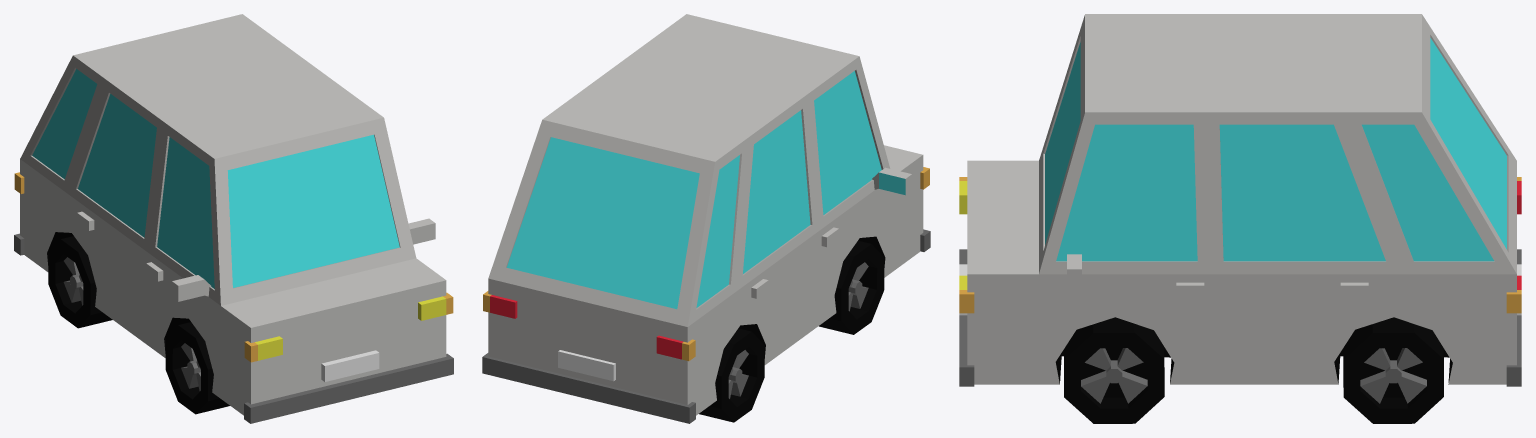
Rendered from Car4.fbx.
The picture shows the model from 3 angles, left to right: view 1: azimuth 30°, elevation 25°; view 2: azimuth 150°, elevation 25°; view 3: azimuth 270°, elevation 25°; orthographic projection. The views are drawn at different scales.
Visible parts, largest first — view 1: Car Body.004, Front Bumper.004, Rear Right Wheel.004, Front Right Wheel.004, Head Lights.004, Door Mirrors.004, Front License Plate.004; view 2: Car Body.004, Rear Bumper.004, Front Right Wheel.004, Rear Right Wheel.004, Break Lights.004, Rear License Plate.004, Door Mirrors.004; view 3: Car Body.004, Rear Left Wheel.004, Front Left Wheel.004, Front Bumper.004, Head Lights.004, Rear Bumper.004, Break Lights.004, Door Mirrors.004.
Part boxes in pixels (x1,y1,x2,y2): Car Body.004: (20, 14, 446, 415); Front Bumper.004: (244, 353, 453, 423); Rear Right Wheel.004: (48, 236, 112, 328); Front Right Wheel.004: (165, 322, 229, 414); Head Lights.004: (244, 292, 453, 362); Door Mirrors.004: (172, 218, 435, 301); Front License Plate.004: (321, 350, 379, 381); Car Body.004: (488, 14, 923, 415); Rear Bumper.004: (482, 353, 695, 423); Front Right Wheel.004: (819, 240, 884, 334); Rear Right Wheel.004: (699, 328, 764, 422); Break Lights.004: (483, 291, 695, 361); Rear License Plate.004: (558, 350, 615, 381); Door Mirrors.004: (872, 167, 911, 195); Car Body.004: (967, 14, 1516, 384); Rear Left Wheel.004: (1343, 317, 1443, 423); Front Left Wheel.004: (1064, 317, 1164, 423); Front Bumper.004: (959, 249, 974, 386); Head Lights.004: (959, 177, 974, 313); Rear Bumper.004: (1506, 249, 1521, 386); Break Lights.004: (1506, 177, 1521, 313); Door Mirrors.004: (1067, 254, 1081, 288).
Bounding box in the file's own units: 409 × 386 × 651.
